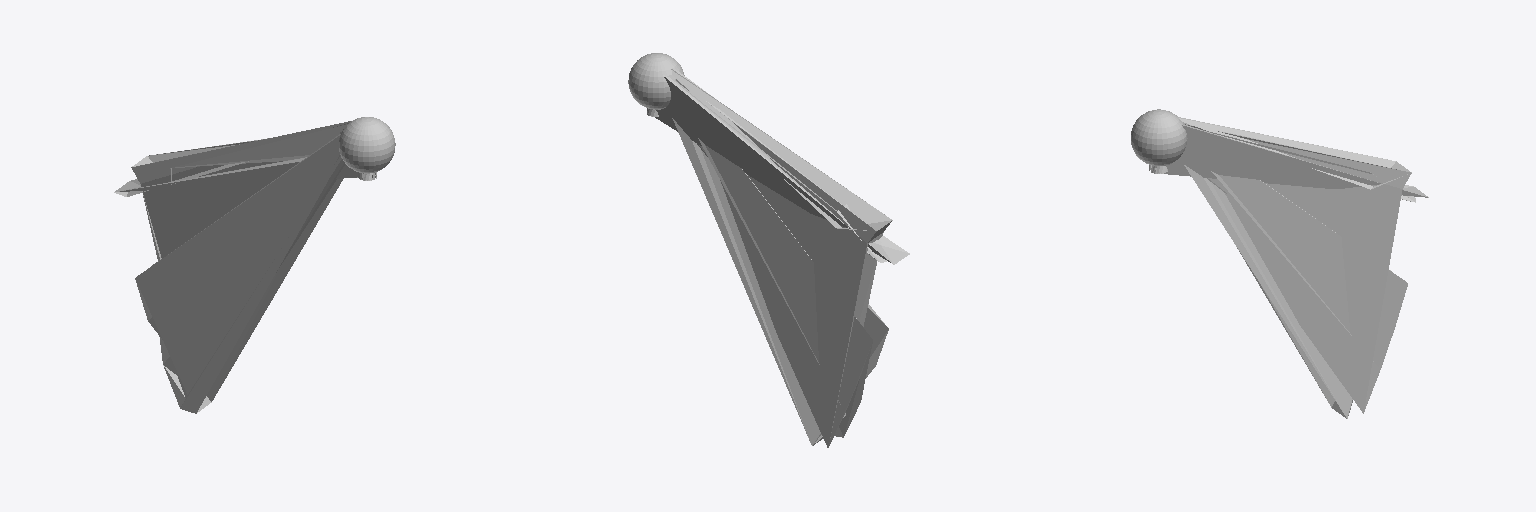
The model's file is French press 2.obj.
The picture shows the model from 3 angles: view 1: azimuth 30°, elevation 25°; view 2: azimuth 210°, elevation 25°; view 3: azimuth 270°, elevation 25°; orthographic projection.
Parts seen in each view (by area): view 1: Cylinder005, Sphere002; view 2: Cylinder005, Sphere002; view 3: Cylinder005, Sphere002.
Part boxes in pixels (left/top/right/bottom): Cylinder005: left=114, top=121, right=390, bottom=413; Sphere002: left=339, top=117, right=395, bottom=173; Cylinder005: left=633, top=63, right=909, bottom=447; Sphere002: left=628, top=53, right=684, bottom=109; Cylinder005: left=1135, top=117, right=1428, bottom=418; Sphere002: left=1131, top=109, right=1187, bottom=165.
Bounding box in the file's own units: 159165 × 340453 × 273452.